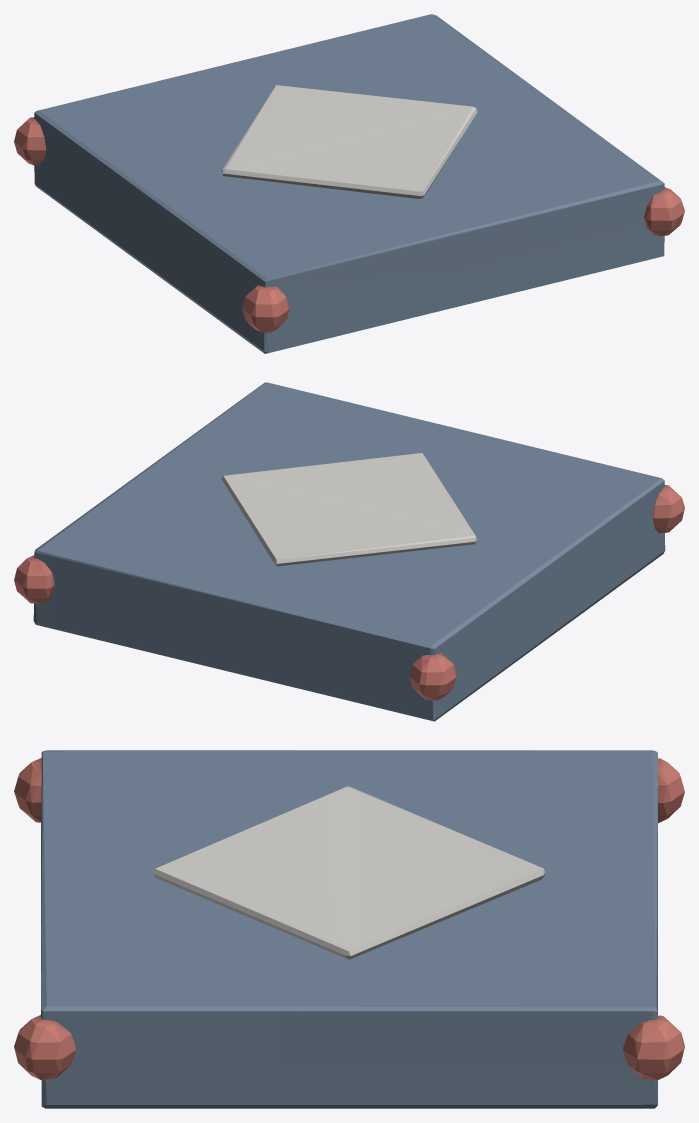
The model's file is furn_floor_cushion__navy_low.glb.
3 renders of one model, top to bottom at view 1: azimuth 30°, elevation 25°; view 2: azimuth 150°, elevation 25°; view 3: azimuth 270°, elevation 25°, orthographic. The views are drawn at different scales.
Size of the model in its own units: 0.592 by 0.1092 by 0.5963.
